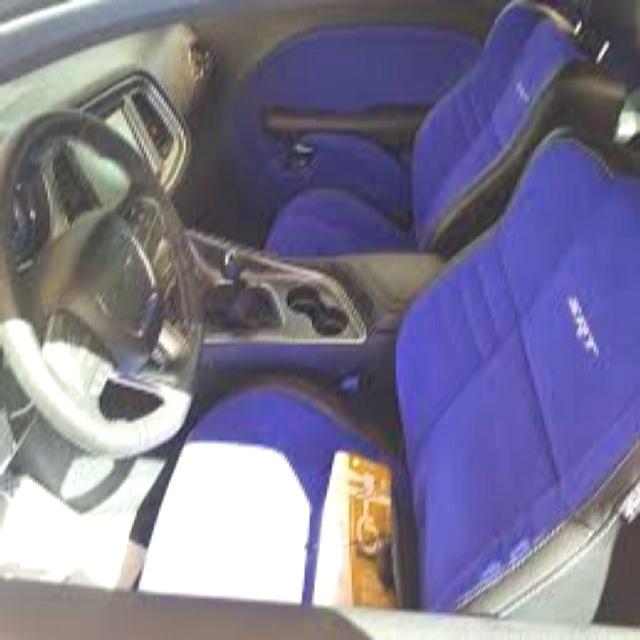ISA: (354, 506, 383, 554)
